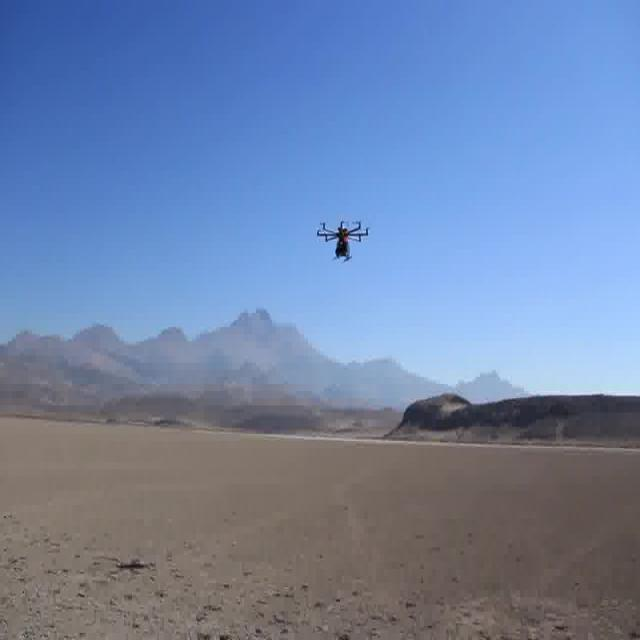drone: (316, 206, 374, 272)
